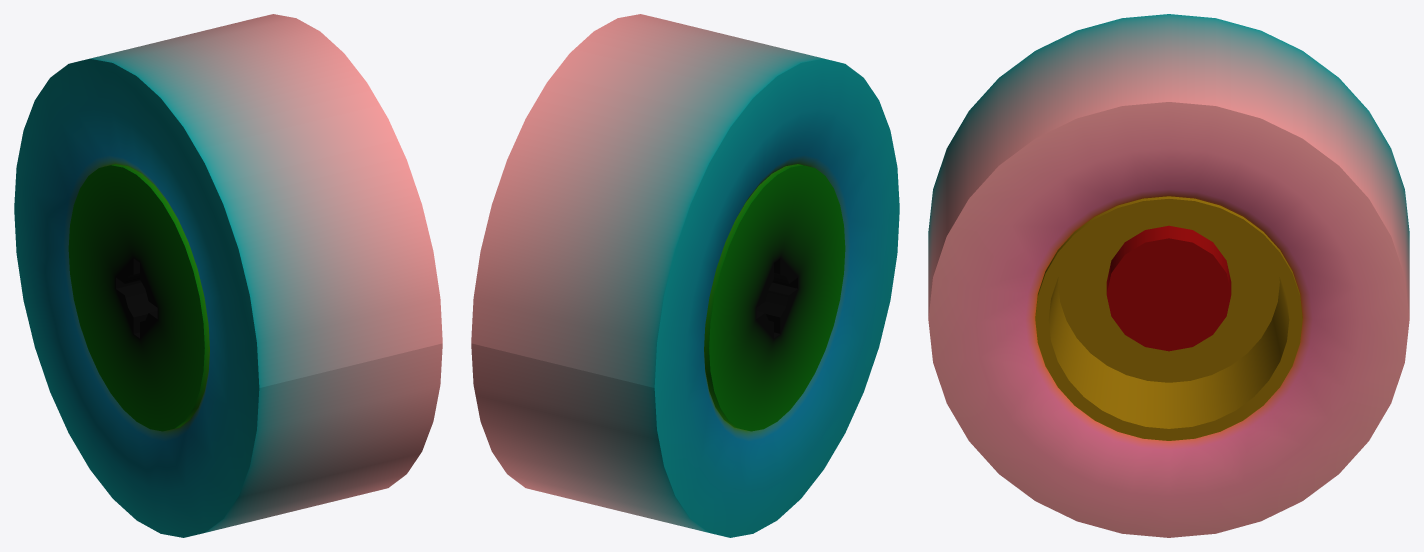
File: SM_Wheel_3x4s.gltf
The picture shows the model from 3 angles, left to right: view 1: azimuth 30°, elevation 25°; view 2: azimuth 150°, elevation 25°; view 3: azimuth 270°, elevation 25°; orthographic projection.
Visible parts, largest first — view 1: SM_Wheel_3x4s; view 2: SM_Wheel_3x4s; view 3: SM_Wheel_3x4s.
Boxes of the visible parts, bbox=[...] form: SM_Wheel_3x4s: bbox=[14, 14, 442, 537]; SM_Wheel_3x4s: bbox=[471, 14, 899, 537]; SM_Wheel_3x4s: bbox=[928, 14, 1409, 537].
Bounding box in the file's own units: 0.3719 × 0.81 × 0.81.
